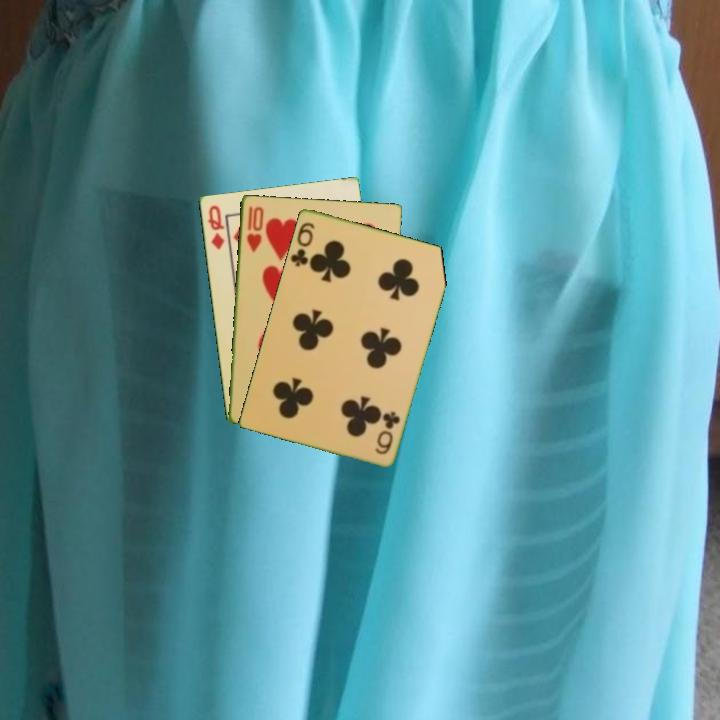10h: (243, 202, 266, 255)
6c: (371, 408, 403, 457), (287, 218, 317, 269)
Qd: (204, 201, 227, 252)
